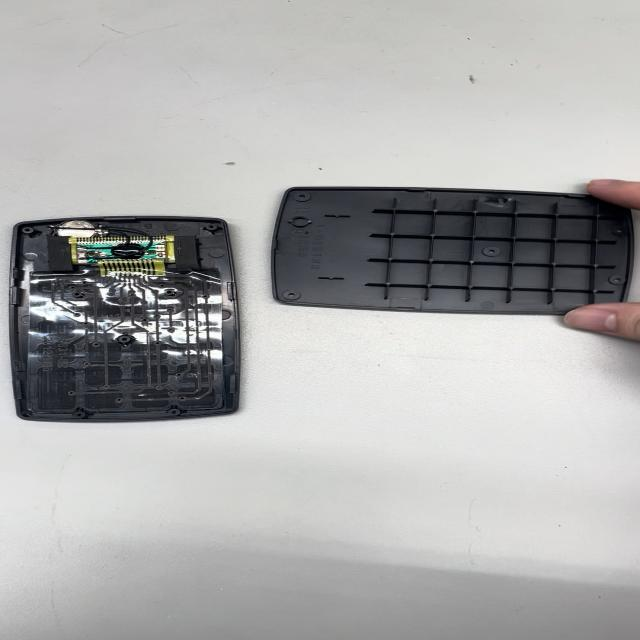back_cover: (265, 178, 636, 322)
front_panel: (7, 214, 246, 423)
